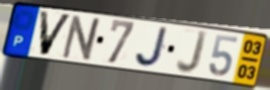5: (207, 33, 240, 78)
7: (108, 18, 137, 67)
J: (174, 29, 210, 76), (134, 25, 171, 69)
N: (60, 14, 105, 64)
V: (38, 9, 75, 57)
